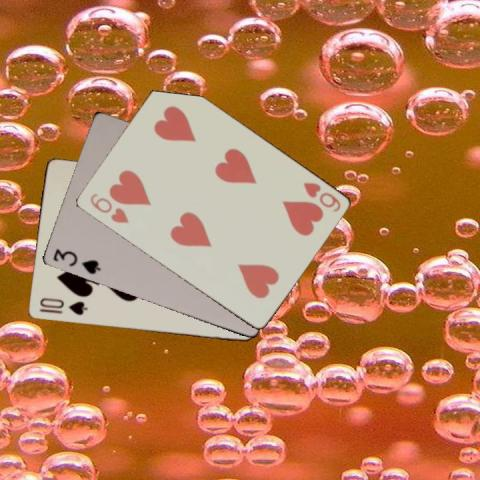10s: (36, 294, 87, 316)
3s: (50, 246, 102, 276)
6h: (86, 190, 130, 225), (299, 179, 342, 214)
